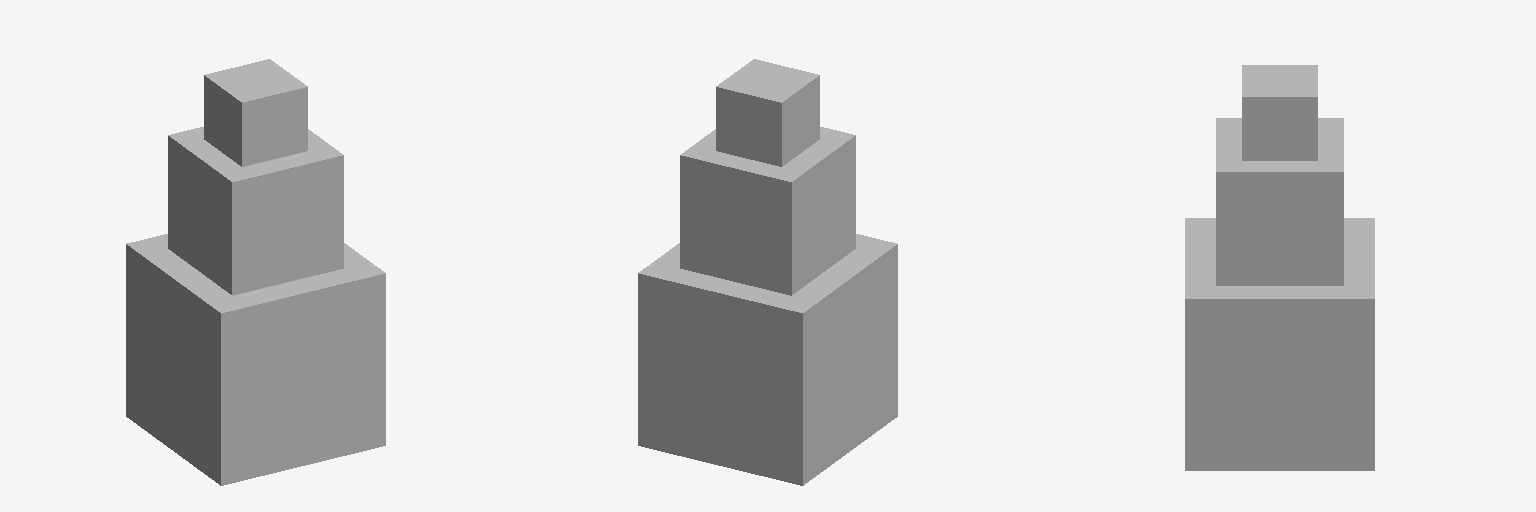
Rendered from snowSquare.obj.
3 views of the same model, side by side, from view 1: azimuth 30°, elevation 25°; view 2: azimuth 150°, elevation 25°; view 3: azimuth 270°, elevation 25° (orthographic).
Visible parts, largest first — view 1: Cube, Cube.002, Cube.003; view 2: Cube, Cube.002, Cube.003; view 3: Cube, Cube.002, Cube.003.
Boxes of the visible parts, x1=… form: Cube: x1=126, y1=234, x2=385, y2=485; Cube.002: x1=168, y1=127, x2=343, y2=295; Cube.003: x1=204, y1=59, x2=307, y2=166; Cube: x1=638, y1=234, x2=897, y2=485; Cube.002: x1=680, y1=127, x2=855, y2=295; Cube.003: x1=716, y1=59, x2=819, y2=166; Cube: x1=1185, y1=218, x2=1374, y2=470; Cube.002: x1=1216, y1=118, x2=1343, y2=285; Cube.003: x1=1242, y1=65, x2=1317, y2=160.
Size of the model in its own units: 2 by 4.06 by 2.